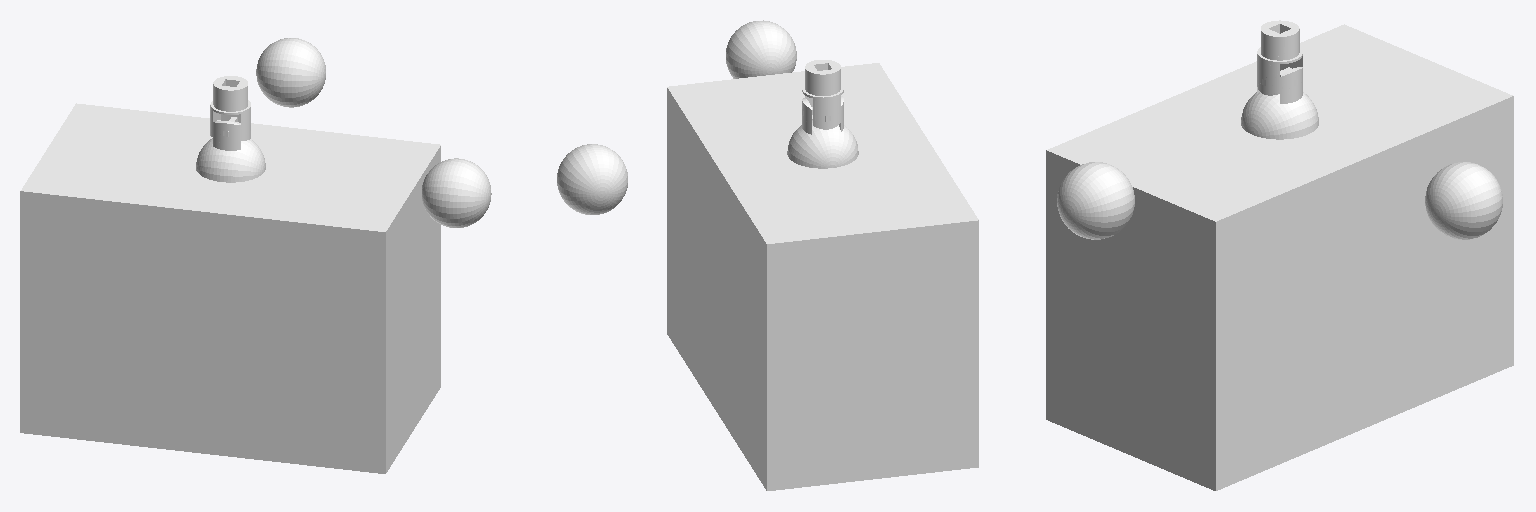
robot.urdf — panda:
<?xml version="1.0" ?>
<!-- =================================================================================== -->
<!-- |    This document was autogenerated by xacro from panda_arm_hand.urdf.xacro      | -->
<!-- |    EDITING THIS FILE BY HAND IS NOT RECOMMENDED                                 | -->
<!-- =================================================================================== -->
<robot name="panda" xmlns:xacro="http://www.ros.org/wiki/xacro">
  <link name="panda_link0">
  	<inertial>
      <origin rpy="0 0 0" xyz="0 0 0.05"/>
       <mass value="2.9"/>
       <inertia ixx="0.1" ixy="0" ixz="0" iyy="0.1" iyz="0" izz="0.1"/>
    </inertial>
    <visual>
      <geometry>
        <mesh filename="meshes/collision/link0.obj"/>
      </geometry>
      <material name="panda_white">
    		<color rgba="1. 1. 1. 1."/>
  		</material>
    </visual>
    <collision>
      <geometry>
        <mesh filename="meshes/collision/link0.obj"/>
      </geometry>
      <material name="panda_white"/>
    </collision>
  </link>
  <link name="panda_link1">
  	<inertial>
      <origin rpy="0 0 0" xyz="0 -0.04 -0.05"/>
       <mass value="2.7"/>
       <inertia ixx="0.1" ixy="0" ixz="0" iyy="0.1" iyz="0" izz="0.1"/>
    </inertial>
    <visual>
      <geometry>
        <mesh filename="meshes/visual/link1.obj"/>
      </geometry>
      <material name="panda_white"/>
    </visual>
    <collision>
      <geometry>
        <mesh filename="meshes/collision/link1.obj"/>
      </geometry>
      <material name="panda_white"/>
    </collision>
  </link>
  <joint name="panda_joint1" type="revolute">
    <safety_controller k_position="100.0" k_velocity="40.0" soft_lower_limit="-2.8973" soft_upper_limit="2.8973"/>
    <origin rpy="0 0 0" xyz="0 0 0.333"/>
    <parent link="panda_link0"/>
    <child link="panda_link1"/>
    <axis xyz="0 0 1"/>
    <limit effort="87" lower="-2.9671" upper="2.9671" velocity="2.1750"/>
  </joint>
  <link name="panda_link2">
  	<inertial>
      <origin rpy="0 0 0" xyz="0 -0.04 0.06"/>
       <mass value="2.73"/>
       <inertia ixx="0.1" ixy="0" ixz="0" iyy="0.1" iyz="0" izz="0.1"/>
    </inertial>
    <visual>
      <geometry>
        <mesh filename="meshes/visual/link2.obj"/>
      </geometry>
      <material name="panda_white"/>
    </visual>
    <collision>
      <geometry>
        <mesh filename="meshes/collision/link2.obj"/>
      </geometry>
      <material name="panda_white"/>
    </collision>
  </link>
  <joint name="panda_joint2" type="revolute">
    <safety_controller k_position="100.0" k_velocity="40.0" soft_lower_limit="-1.7628" soft_upper_limit="1.7628"/>
    <origin rpy="-1.57079632679 0 0" xyz="0 0 0"/>
    <parent link="panda_link1"/>
    <child link="panda_link2"/>
    <axis xyz="0 0 1"/>
    <limit effort="87" lower="-1.8326" upper="1.8326" velocity="2.1750"/>
  </joint>
  <link name="panda_link3">
	  <inertial>
      <origin rpy="0 0 0" xyz="0.01 0.01 -0.05"/>
       <mass value="2.04"/>
       <inertia ixx="0.1" ixy="0" ixz="0" iyy="0.1" iyz="0" izz="0.1"/>
    </inertial>
    <visual>
      <geometry>
        <mesh filename="meshes/visual/link3.obj"/>
      </geometry>
      <material name="panda_red">
    		<color rgba="1. 1. 1. 1."/>
  		</material>
    </visual>
    <collision>
      <geometry>
        <mesh filename="meshes/collision/link3.obj"/>
      </geometry>
    </collision>
  </link>
  <joint name="panda_joint3" type="revolute">
    <safety_controller k_position="100.0" k_velocity="40.0" soft_lower_limit="-2.8973" soft_upper_limit="2.8973"/>
    <origin rpy="1.57079632679 0 0" xyz="0 -0.316 0"/>
    <parent link="panda_link2"/>
    <child link="panda_link3"/>
    <axis xyz="0 0 1"/>
    <limit effort="87" lower="-2.9671" upper="2.9671" velocity="2.1750"/>
  </joint>
  <link name="panda_link4">
  	<inertial>
      <origin rpy="0 0 0" xyz="-0.03 0.03 0.02"/>
       <mass value="2.08"/>
       <inertia ixx="0.1" ixy="0" ixz="0" iyy="0.1" iyz="0" izz="0.1"/>
    </inertial>
    <visual>
      <geometry>
        <mesh filename="meshes/visual/link4.obj"/>
      </geometry>
      <material name="panda_white"/>
    </visual>
    <collision>
      <geometry>
        <mesh filename="meshes/collision/link4.obj"/>
      </geometry>
      <material name="panda_white"/>
    </collision>
  </link>
  <joint name="panda_joint4" type="revolute">
    <safety_controller k_position="100.0" k_velocity="40.0" soft_lower_limit="-3.0718" soft_upper_limit="-0.0698"/>
    <origin rpy="1.57079632679 0 0" xyz="0.0825 0 0"/>
    <parent link="panda_link3"/>
    <child link="panda_link4"/>
    <axis xyz="0 0 1"/>
    <limit effort="87" lower="-3.1416" upper="0.0" velocity="2.1750"/>
  </joint>
  <link name="panda_link5">
  	<inertial>
      <origin rpy="0 0 0" xyz="0 0.04 -0.12"/>
       <mass value="3"/>
       <inertia ixx="0.1" ixy="0" ixz="0" iyy="0.1" iyz="0" izz="0.1"/>
    </inertial>
    <visual>
      <geometry>
        <mesh filename="meshes/visual/link5.obj"/>
      </geometry>
      <material name="panda_white"/>
    </visual>
    <collision>
      <geometry>
        <mesh filename="meshes/collision/link5.obj"/>
      </geometry>
      <material name="panda_white"/>
    </collision>
  </link>
  <joint name="panda_joint5" type="revolute">
    <safety_controller k_position="100.0" k_velocity="40.0" soft_lower_limit="-2.8973" soft_upper_limit="2.8973"/>
    <origin rpy="-1.57079632679 0 0" xyz="-0.0825 0.384 0"/>
    <parent link="panda_link4"/>
    <child link="panda_link5"/>
    <axis xyz="0 0 1"/>
    <limit effort="12" lower="-2.9671" upper="2.9671" velocity="2.6100"/>
  </joint>
  <link name="panda_link6">
  	<inertial>
      <origin rpy="0 0 0" xyz="0.04 0 0"/>
       <mass value="1.3"/>
       <inertia ixx="0.1" ixy="0" ixz="0" iyy="0.1" iyz="0" izz="0.1"/>
    </inertial>
    <visual>
      <geometry>
        <mesh filename="meshes/visual/link6.obj"/>
      </geometry>
      <material name="panda_white"/>
    </visual>
    <collision>
      <geometry>
        <mesh filename="meshes/collision/link6.obj"/>
      </geometry>
      <material name="panda_white"/>
    </collision>
  </link>
  <joint name="panda_joint6" type="revolute">
    <safety_controller k_position="100.0" k_velocity="40.0" soft_lower_limit="-0.0175" soft_upper_limit="3.7525"/>
    <origin rpy="1.57079632679 0 0" xyz="0 0 0"/>
    <parent link="panda_link5"/>
    <child link="panda_link6"/>
    <axis xyz="0 0 1"/>
    <limit effort="12" lower="-0.0873" upper="3.8223" velocity="2.6100"/>
  </joint>
  <link name="panda_link7">
  	<inertial>
      <origin rpy="0 0 0" xyz="0 0 0.08"/>
       <mass value=".2"/>
       <inertia ixx="0.1" ixy="0" ixz="0" iyy="0.1" iyz="0" izz="0.1"/>
    </inertial>
    <visual>
      <geometry>
        <mesh filename="meshes/collision/link7.obj"/>
      </geometry>
      <material name="panda_white"/>
    </visual>
    <collision>
      <geometry>
        <mesh filename="meshes/collision/link7.obj"/>
      </geometry>
      <material name="panda_white"/>
    </collision>
  </link>
  <joint name="panda_joint7" type="revolute">
    <safety_controller k_position="100.0" k_velocity="40.0" soft_lower_limit="-2.8973" soft_upper_limit="2.8973"/>
    <origin rpy="1.57079632679 0 0" xyz="0.088 0 0"/>
    <parent link="panda_link6"/>
    <child link="panda_link7"/>
    <axis xyz="0 0 1"/>
    <limit effort="12" lower="-2.9671" upper="2.9671" velocity="2.6100"/>
  </joint>
  <link name="panda_link8">
  	 <inertial>
      <origin rpy="0 0 0" xyz="0 0 0"/>
       <mass value="0.0"/>
       <inertia ixx="0.1" ixy="0" ixz="0" iyy="0.1" iyz="0" izz="0.1"/>
    </inertial>
  </link>
  <joint name="panda_joint8" type="fixed">
    <origin rpy="0 0 0" xyz="0 0 0.107"/>
    <parent link="panda_link7"/>
    <child link="panda_link8"/>
    <axis xyz="0 0 0"/>
  </joint>
  <joint name="panda_universal_joint_top_joint" type="fixed">
    <parent link="panda_link8"/>
    <child link="universal_joint_top"/>
    <origin rpy="1.5707 0 0.785398163397" xyz="0 0 0.0"/>
  </joint>
  <link name="universal_joint_top">
    <inertial>
      <origin rpy="1.5707 0 0.785398163397" xyz="0 0 0.0"/>
      <mass value=".1"/>
      <inertia ixx="0.05" ixy="0" ixz="0" iyy="0.05" iyz="0" izz="0.05"/>
    </inertial>
    <visual>
      <origin rpy="0 0 0" xyz="0 0 0"/>
      <geometry>
        <mesh filename="meshes/visual/universal_joint.obj" />
      </geometry>
      <material name="white">
        <color rgba="1 1 1 1"/>
      </material>
    </visual>
  </link>
  <joint name="universal_joint_top_universal_joint_cross_joint" type="continuous">
    <parent link="universal_joint_top"/>
    <child link="universal_joint_cross"/>
    <origin rpy="1.5707 0 1.5707" xyz="0.0 0.04 0.0"/>
  </joint>
  <link name="universal_joint_cross">
    <inertial>
      <origin rpy="0 0 0" xyz="0 0 0"/>
      <mass value=".1"/>
      <inertia ixx="0.05" ixy="0" ixz="0" iyy="0.05" iyz="0" izz="0.05"/>
    </inertial>
    <visual>
      <origin rpy="0 0 0" xyz="0 0 0"/>
      <geometry>
        <mesh filename="meshes/visual/universal_joint_cross.obj" />
      </geometry>
      <material name="white">
        <color rgba="1 1 1 1"/>
      </material>
    </visual>
  </link>
  <joint name="universal_joint_cross_universal_joint_bottom_joint" type="continuous">
    <parent link="universal_joint_cross"/>
    <child link="universal_joint_bottom"/>
    <origin rpy="1.5707 0 0" xyz="0.0 0.0 0.0"/>
  </joint>
  <link name="universal_joint_bottom">
    <inertial>
      <origin rpy="0 1.5707 1.5707" xyz="0.04 0 0"/>
      <mass value=".1"/>
      <inertia ixx="0.05" ixy="0" ixz="0" iyy="0.05" iyz="0" izz="0.05"/>
    </inertial>
    <visual>
      <origin rpy="0 1.5707 1.5707" xyz="0.04 0 0"/>
      <geometry>
        <mesh filename="meshes/visual/universal_joint.obj" />
      </geometry>
      <material name="white">
        <color rgba="1 1 1 1"/>
      </material>
    </visual>
  </link>
  <joint name="universal_joint_bottom_clear_box_joint" type="fixed">
    <parent link="universal_joint_bottom"/>
    <child link="clear_box"/>
    <origin rpy="0 1.5707 0" xyz="0.04 0.0 0.0"/>
  </joint>
  <link name="clear_box">
    <inertial>
      <origin rpy="0 0 0" xyz="0 0 0"/>
      <mass value=".1"/>
      <inertia ixx="0.5" ixy="0" ixz="0" iyy="0.05" iyz="0" izz="0.5"/>
    </inertial>
    <visual>
      <origin rpy="0 0 0" xyz="0 0 0"/>
      <geometry>
        <mesh filename="meshes/visual/clear_box.obj" />
      </geometry>
      <material name="white">
        <color rgba="1 1 1 1"/>
      </material>
    </visual>
    <!-- origin -->
    <visual>
      <origin rpy="0 0 0" xyz="0 0 0"/>
      <geometry>
        <mesh filename="meshes/visual/sphere_smooth_origin.obj" scale="0.03 0.03 0.03" />
      </geometry>
      <material name="white">
        <color rgba="1 1 1 1"/>
      </material>
    </visual>
    <!-- point x -->
    <visual>
      <origin rpy="0 0 0" xyz="0.2 0 0"/>
      <geometry>
        <mesh filename="meshes/visual/sphere_smooth_x.obj" scale="0.03 0.03 0.03" />
      </geometry>
      <material name="white">
        <color rgba="1 1 1 1"/>
      </material>
    </visual>
    <!-- point y -->
    <visual>
      <origin rpy="0 0 0" xyz="0 0.2 0"/>
      <geometry>
        <mesh filename="meshes/visual/sphere_smooth_y.obj" scale="0.03 0.03 0.03" />
      </geometry>
      <material name="white">
        <color rgba="1 1 1 1"/>
      </material>
    </visual>
    <!-- point z -->
    <visual>
      <origin rpy="0 0 0" xyz="0 0 0.2"/>
      <geometry>
        <mesh filename="meshes/visual/sphere_smooth_z.obj" scale="0.03 0.03 0.03" />
      </geometry>
      <material name="white">
        <color rgba="1 1 1 1"/>
      </material>
    </visual>
  </link>
</robot>

--- Facts derived from the render (not from the file) ---
Views: 3 orthographic renders of the robot side by side, from view 1: azimuth 30°, elevation 25°; view 2: azimuth 150°, elevation 25°; view 3: azimuth 270°, elevation 25°.
Robot: panda — 13 links, 12 joints (7 revolute, 2 continuous, 3 fixed); root link panda_link0; default pose: all joints at 0.
Links seen in each view (by area): view 1: clear_box, universal_joint_top, universal_joint_bottom; view 2: clear_box, universal_joint_top; view 3: clear_box, universal_joint_top, universal_joint_bottom.
Boxes of the visible links, x1,y1,x2,y2 form: clear_box: [20, 38, 491, 473]; universal_joint_top: [210, 76, 250, 140]; universal_joint_bottom: [213, 114, 240, 150]; clear_box: [557, 20, 978, 490]; universal_joint_top: [802, 60, 843, 129]; clear_box: [1046, 24, 1513, 490]; universal_joint_top: [1257, 20, 1302, 95]; universal_joint_bottom: [1257, 67, 1302, 103].
Size in the robot's own frame: 0.3592 by 0.3592 by 0.31 metres.
Meshes: 15 distinct files referenced, 8 mesh visuals loaded (7 OBJ); not drawn: 8 (reference not matched to a file when rendering).